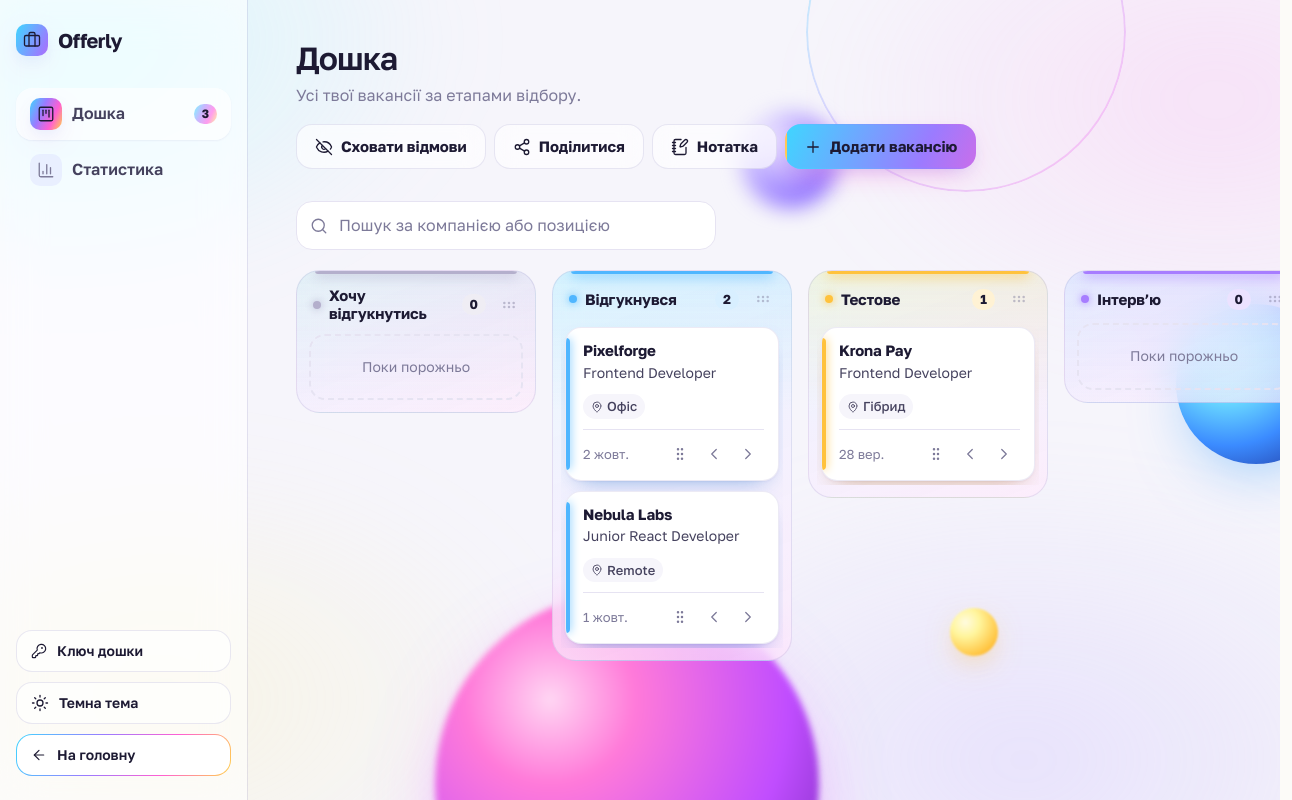
Test: Дошка (інтеграційно: увесь застосунок) › при помилці мережі повертає картку на місце і показує сповіщення
This screenshot has width=1292, height=800.
Check: the heading "Дошка" is shown, box [296,39,397,77]
Click the button named "Перемістити в «Інтерв’ю»" at {"x": 1004, "y": 454}, box [988,438,1020,470]
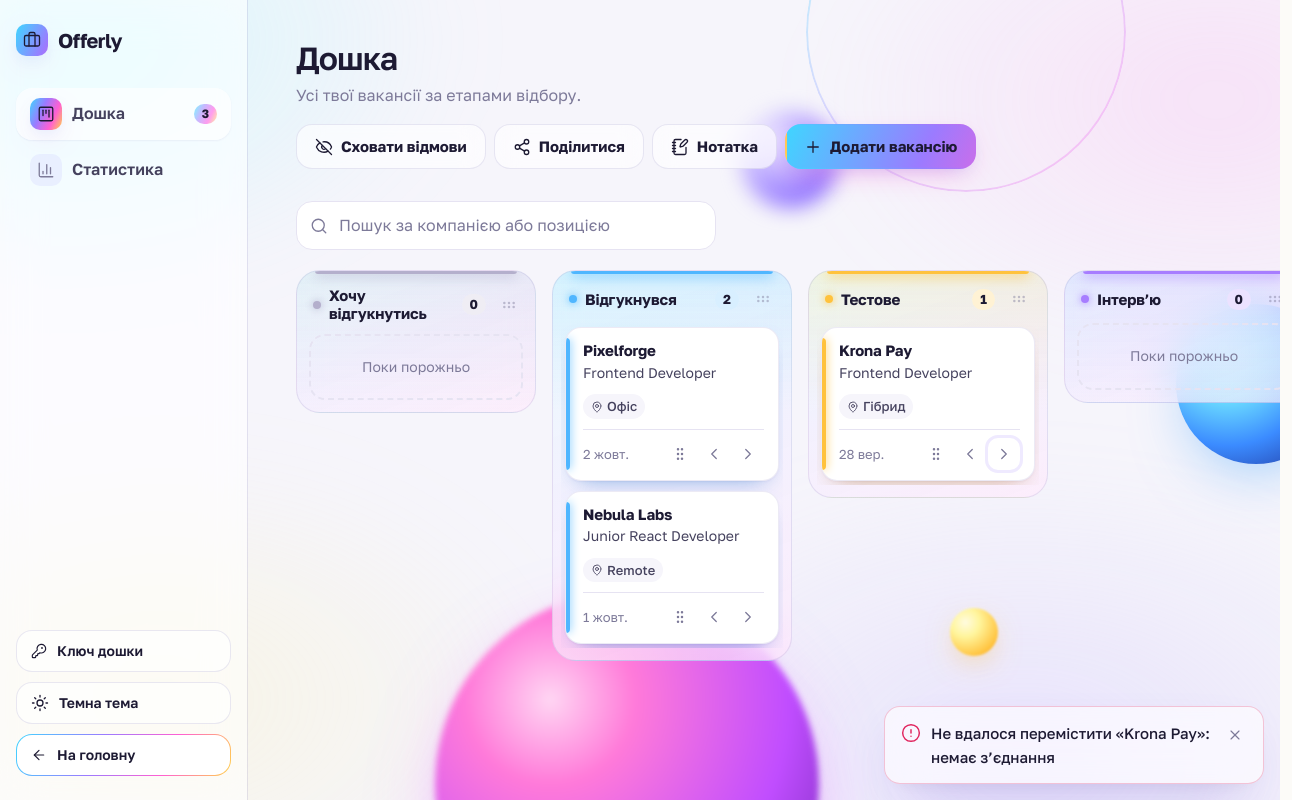
Check: the link "Krona Pay" is shown, box [839,342,912,360]
Check: the message shows "немає з’єднання", box [931,724,1210,766]
